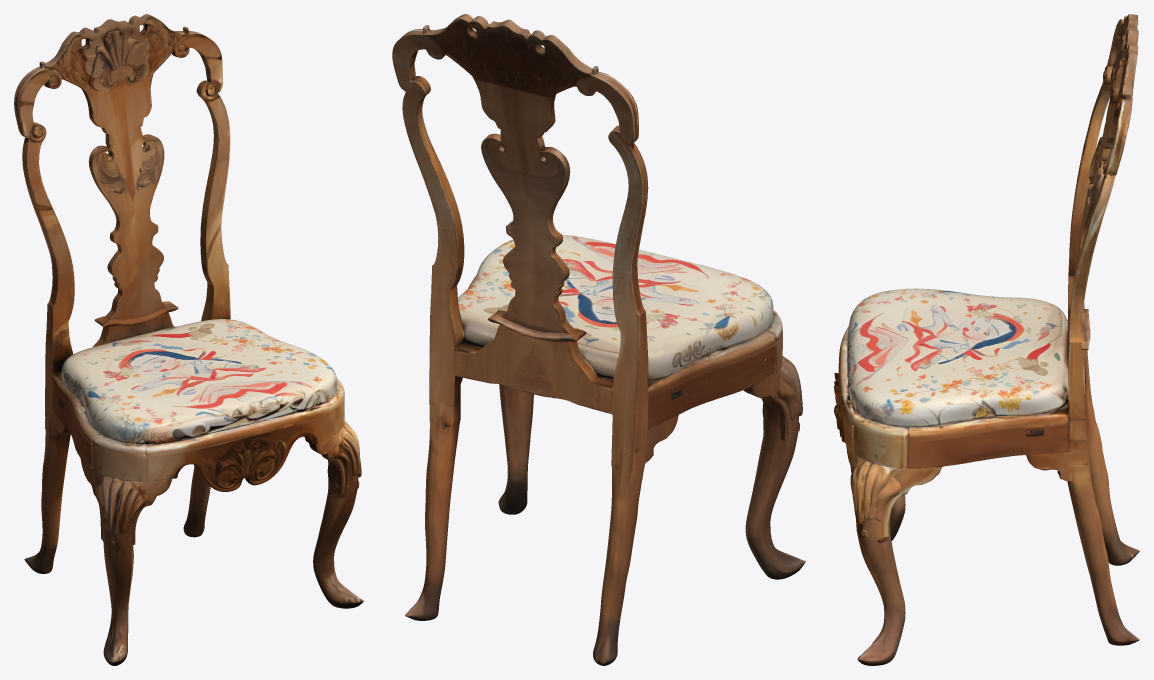
The picture shows the model from 3 angles, left to right: view 1: azimuth 30°, elevation 25°; view 2: azimuth 150°, elevation 25°; view 3: azimuth 270°, elevation 25°; orthographic projection. The views are drawn at different scales.
Parts seen in each view (by area): view 1: root.0, root.1, root.4, root.3, root.5, root.2; view 2: root.0, root.1, root.3, root.2, root.5, root.4; view 3: root.0, root.1, root.2, root.4, root.3, root.5.
Part boxes in pixels (<box>): root.0: <box>14,14,361,547</box>; root.1: <box>61,319,337,443</box>; root.4: <box>313,480,363,608</box>; root.3: <box>24,415,70,573</box>; root.5: <box>103,537,133,665</box>; root.2: <box>183,466,210,537</box>; root.0: <box>392,14,802,470</box>; root.1: <box>458,234,773,380</box>; root.3: <box>593,446,645,665</box>; root.2: <box>405,401,459,620</box>; root.5: <box>745,421,805,579</box>; root.4: <box>498,384,533,514</box>; root.0: <box>834,14,1138,537</box>; root.1: <box>847,288,1068,426</box>; root.2: <box>1067,459,1139,645</box>; root.4: <box>856,521,905,665</box>; root.3: <box>1085,374,1139,565</box>; root.5: <box>890,495,905,540</box>.
Size of the model in its own units: 0.5286 by 1.05 by 0.5103.
Materials: 6 (6 with a texture image).
